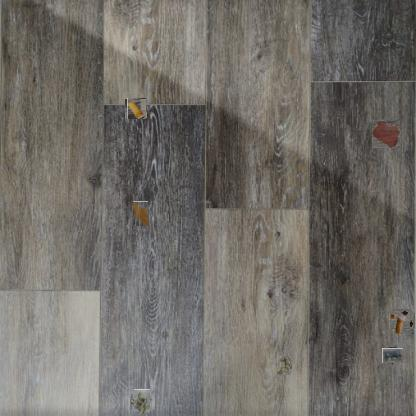dirty: (391, 310, 413, 332), (126, 98, 147, 119), (132, 392, 153, 412), (276, 355, 292, 375), (384, 346, 401, 364)
liquid: (372, 120, 400, 148), (132, 201, 148, 226)
